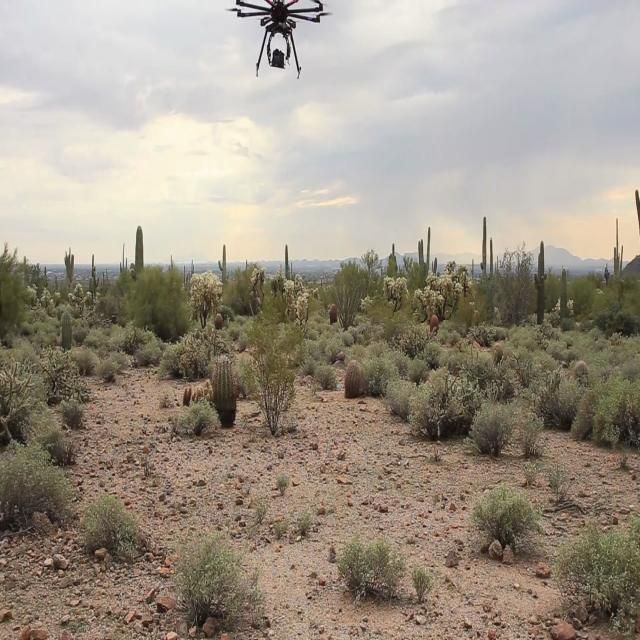drone: (226, 0, 340, 99)
